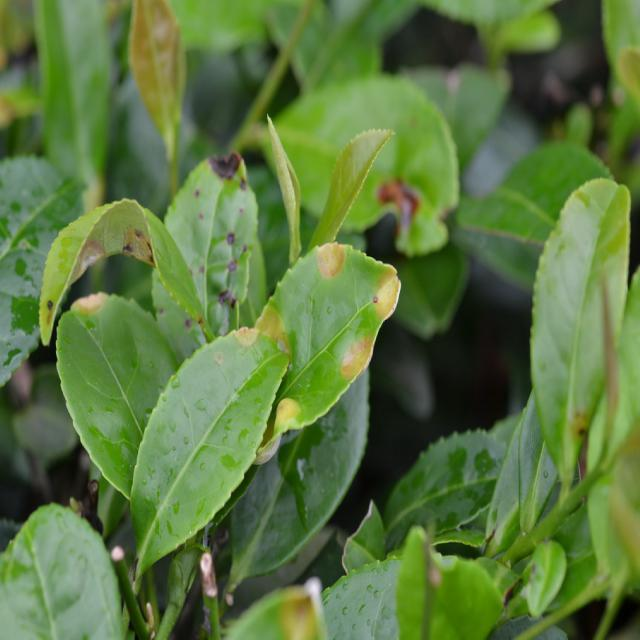Tea cake: (235, 310, 289, 346), (270, 395, 309, 431), (314, 234, 349, 273), (341, 330, 372, 374), (371, 269, 402, 311)
